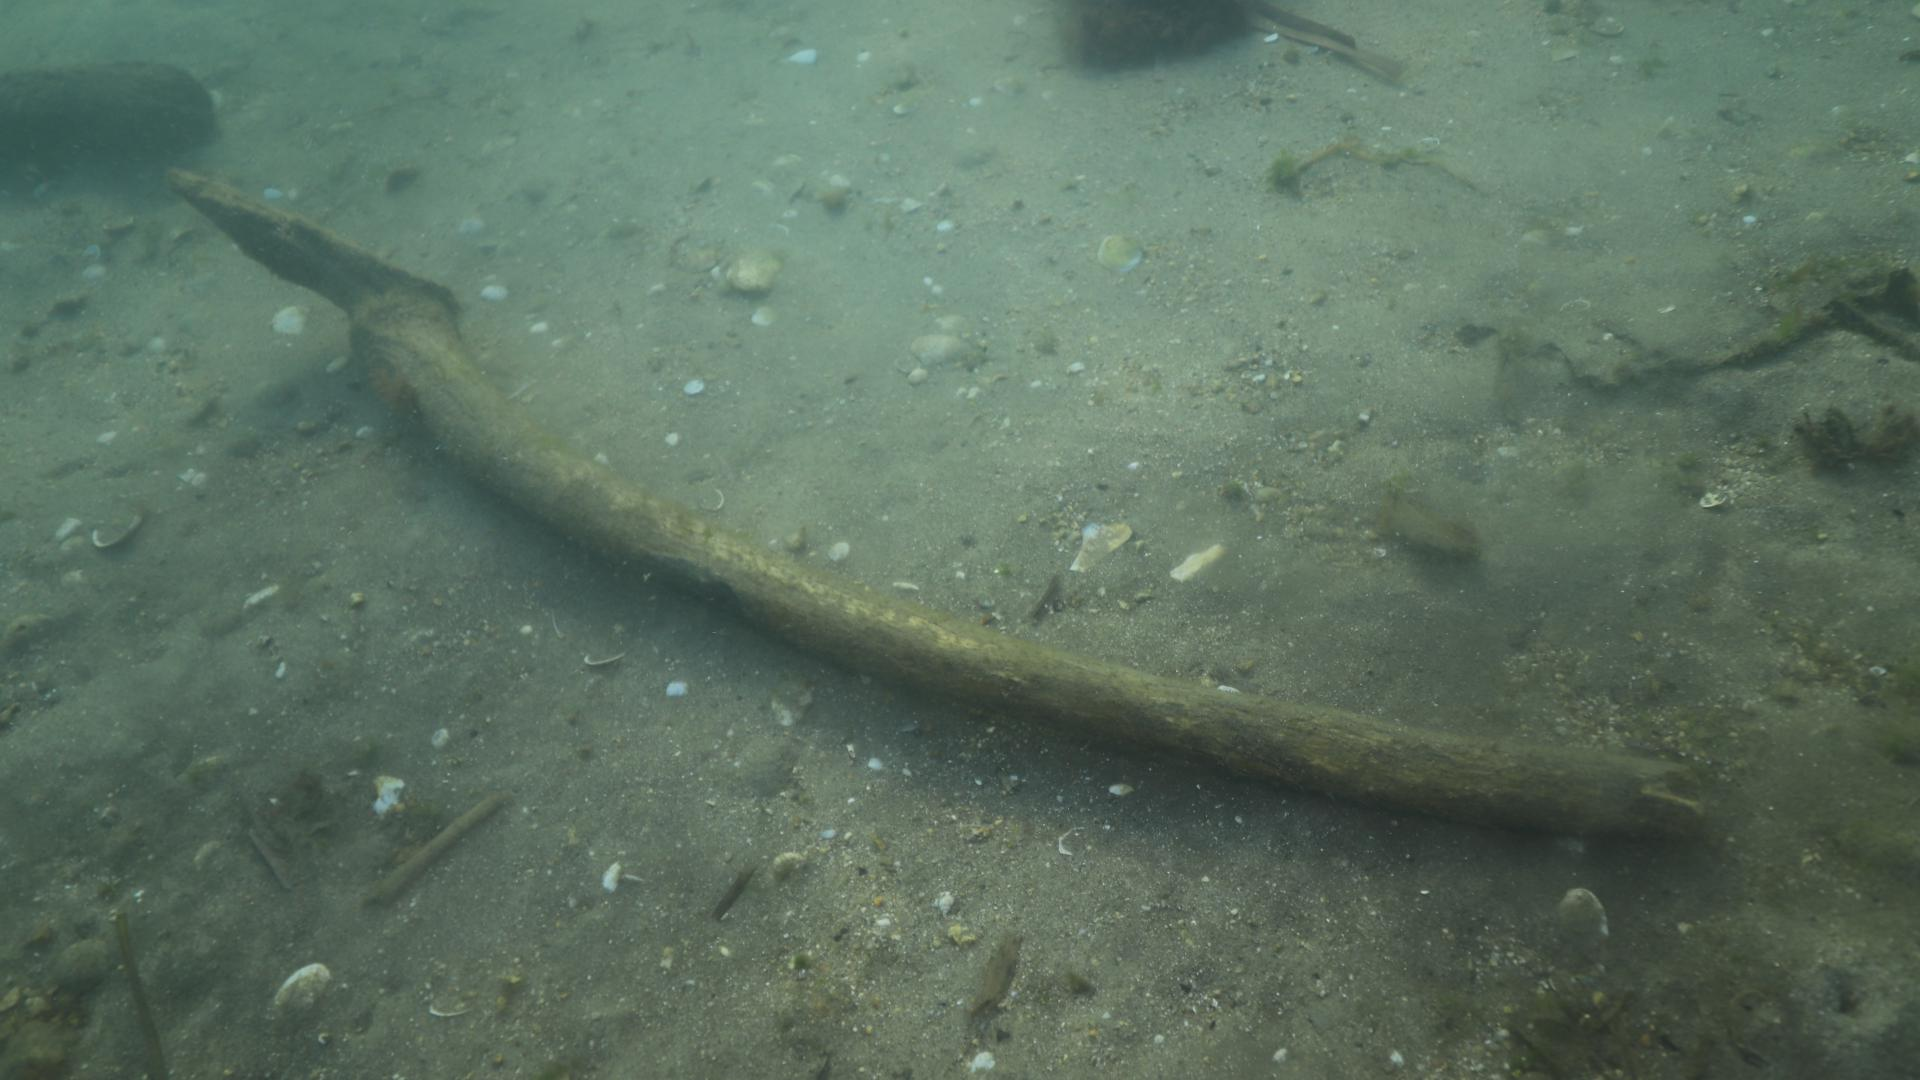wood: (160, 165, 1705, 841)
